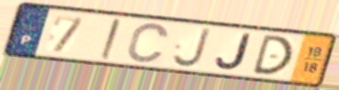7: (49, 14, 84, 54)
C: (125, 22, 171, 65)
D: (250, 33, 295, 76)
I: (98, 17, 123, 62)
J: (170, 26, 213, 69), (213, 32, 253, 72)
